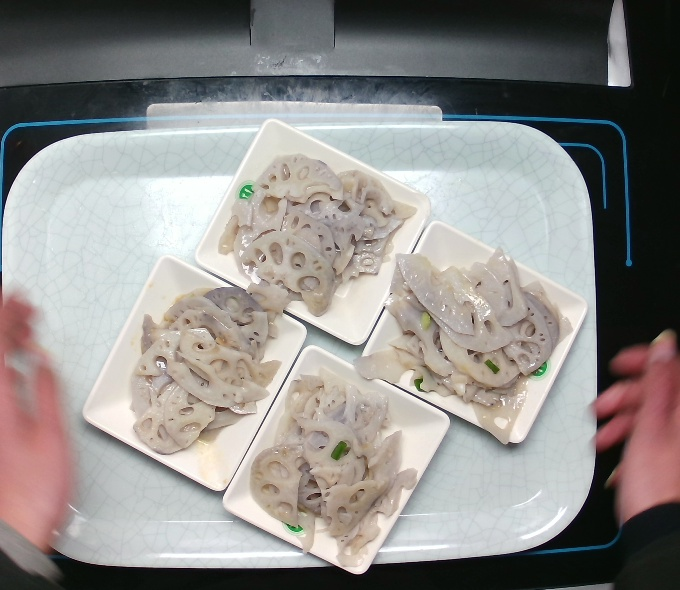wcq-OuPian: (350, 243, 581, 444), (111, 275, 306, 462), (217, 150, 422, 321), (252, 371, 424, 568)
